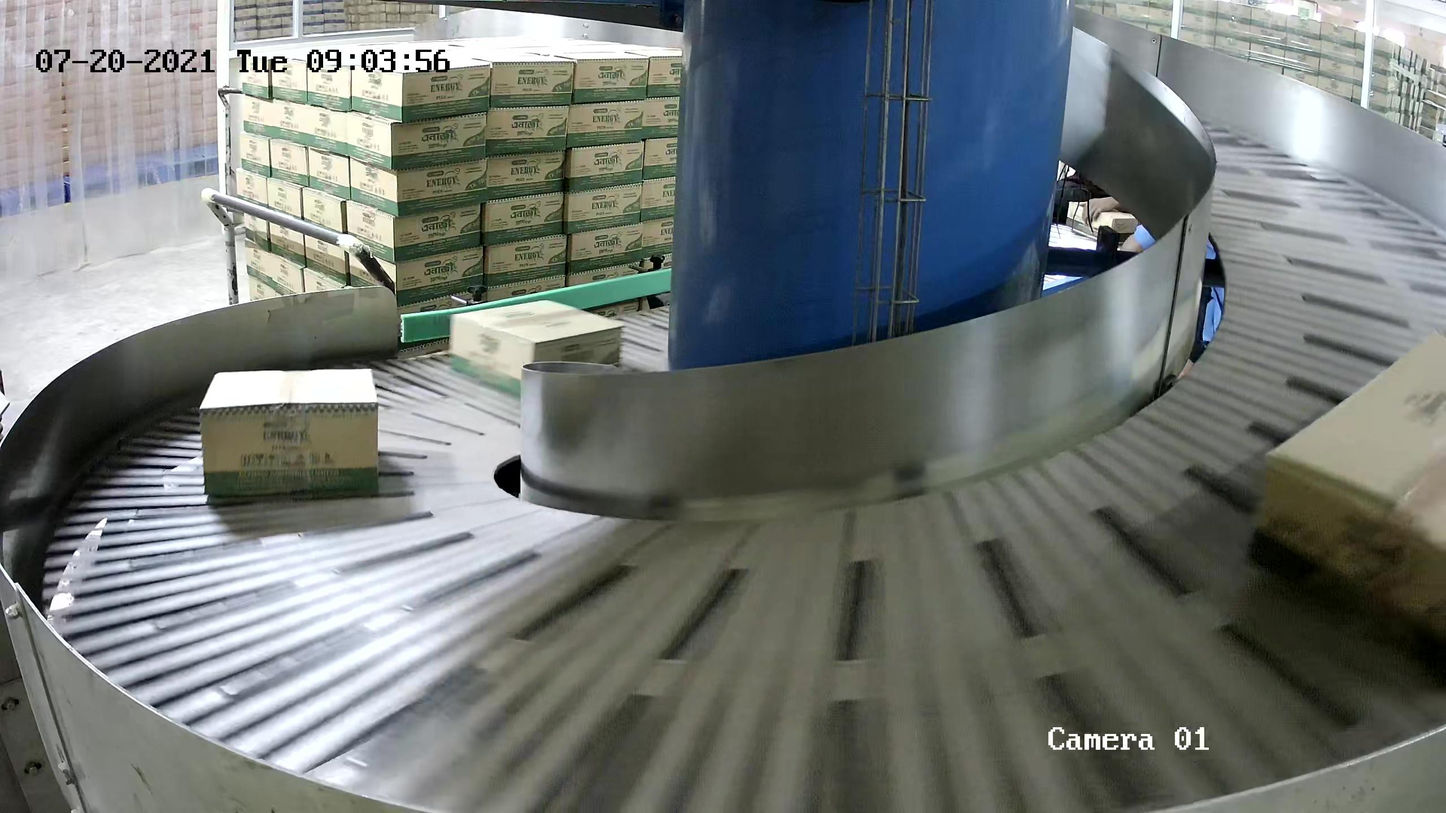Box: (1242, 313, 1446, 694), (197, 367, 381, 498), (445, 295, 625, 404)
